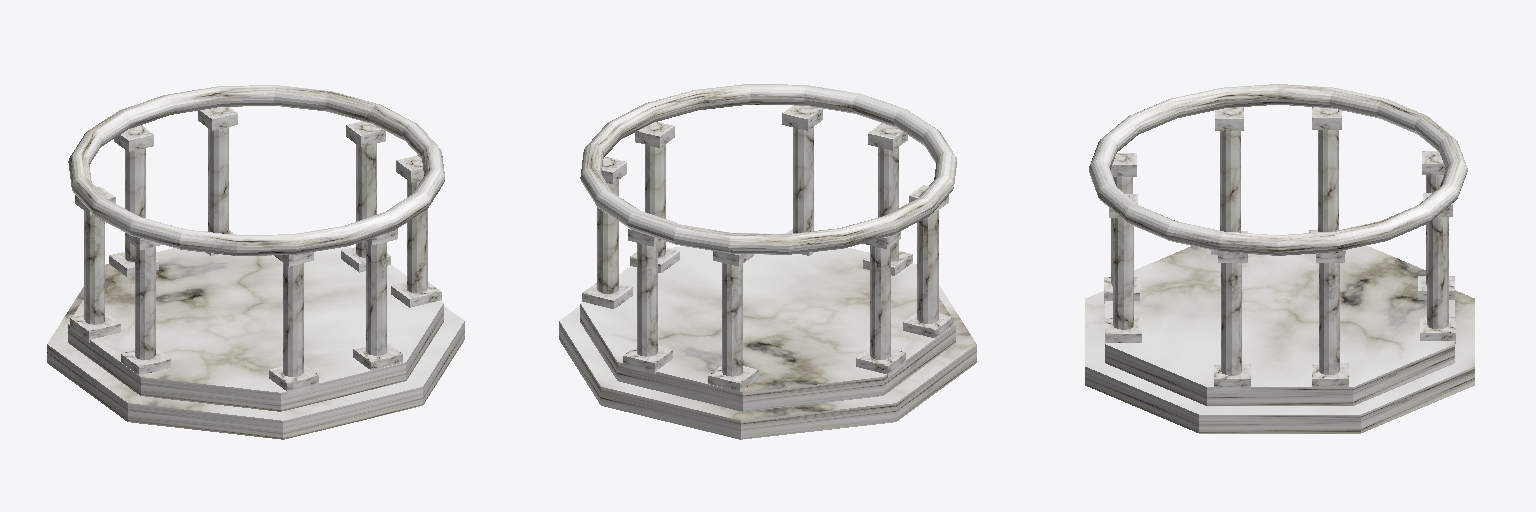
3 views of the same model, side by side, from view 1: azimuth 30°, elevation 25°; view 2: azimuth 150°, elevation 25°; view 3: azimuth 270°, elevation 25° (orthographic).
Parts seen in each view (by area): view 1: temple1 temple:pCylinder2, temple:pTorus1 temple1, temple1 temple:pCylinder1, temple1 temple:group3 temple:column1 temple:columnShaft, temple1 temple:column temple:group3 temple:columnShaft, temple1 temple:group2 temple:column1 temple:columnShaft, temple1 temple:column temple:group2 temple:columnShaft, temple1 temple:column temple:group1 temple:columnShaft, temple1 temple:column temple:group4 temple:columnShaft, temple1 temple:group4 temple:column1 temple:columnShaft, temple1 temple:group1 temple:column1 temple:columnShaft, temple1 temple:column temple:group3 temple:columnPedestral (+8 smaller); view 2: temple1 temple:pCylinder2, temple:pTorus1 temple1, temple1 temple:pCylinder1, temple1 temple:column temple:group2 temple:columnShaft, temple1 temple:group2 temple:column1 temple:columnShaft, temple1 temple:column temple:group1 temple:columnShaft, temple1 temple:group1 temple:column1 temple:columnShaft, temple1 temple:group3 temple:column1 temple:columnShaft, temple1 temple:group4 temple:column1 temple:columnShaft, temple1 temple:column temple:group4 temple:columnShaft, temple1 temple:column temple:group3 temple:columnShaft, temple1 temple:column temple:group1 temple:columnPedestral (+7 smaller); view 3: temple1 temple:pCylinder2, temple:pTorus1 temple1, temple1 temple:pCylinder1, temple1 temple:column temple:group1 temple:columnShaft, temple1 temple:column temple:group4 temple:columnShaft, temple1 temple:group4 temple:column1 temple:columnShaft, temple1 temple:group3 temple:column1 temple:columnShaft, temple1 temple:column temple:group2 temple:columnShaft, temple1 temple:group2 temple:column1 temple:columnShaft, temple1 temple:column temple:group4 temple:columnPedestral, temple1 temple:group3 temple:column1 temple:columnPedestral, temple1 temple:group2 temple:columnCapital temple:column1 (+4 smaller).
Part boxes in pixels (x1,y1,x2,y2): temple1 temple:pCylinder2: (68,234,443,411); temple:pTorus1 temple1: (68,85,444,255); temple1 temple:pCylinder1: (47,287,464,439); temple1 temple:group3 temple:column1 temple:columnShaft: (366,241,386,355); temple1 temple:column temple:group3 temple:columnShaft: (283,263,303,376); temple1 temple:group2 temple:column1 temple:columnShaft: (135,247,155,359); temple1 temple:column temple:group2 temple:columnShaft: (84,211,104,324); temple1 temple:column temple:group1 temple:columnShaft: (208,127,228,233); temple1 temple:column temple:group4 temple:columnShaft: (407,180,427,292); temple1 temple:group4 temple:column1 temple:columnShaft: (356,144,376,257); temple1 temple:group1 temple:column1 temple:columnShaft: (125,148,145,261); temple1 temple:column temple:group3 temple:columnPedestral: (269,365,318,394); temple1 temple:pCylinder2: (580,246,955,411); temple:pTorus1 temple1: (580,84,956,254); temple1 temple:pCylinder1: (559,285,976,439); temple1 temple:column temple:group2 temple:columnShaft: (870,246,890,359); temple1 temple:group2 temple:column1 temple:columnShaft: (917,210,938,323); temple1 temple:column temple:group1 temple:columnShaft: (637,243,657,356); temple1 temple:group1 temple:column1 temple:columnShaft: (722,263,742,376); temple1 temple:group3 temple:column1 temple:columnShaft: (793,127,813,232); temple1 temple:group4 temple:column1 temple:columnShaft: (597,180,618,293); temple1 temple:column temple:group4 temple:columnShaft: (645,144,665,257); temple1 temple:column temple:group3 temple:columnShaft: (878,147,898,260); temple1 temple:column temple:group1 temple:columnPedestral: (623,346,672,374); temple1 temple:pCylinder2: (1105,245,1454,405); temple:pTorus1 temple1: (1089,84,1467,255); temple1 temple:pCylinder1: (1085,290,1474,433); temple1 temple:column temple:group1 temple:columnShaft: (1427,217,1448,328); temple1 temple:column temple:group4 temple:columnShaft: (1221,263,1241,375); temple1 temple:group4 temple:column1 temple:columnShaft: (1319,263,1339,374); temple1 temple:group3 temple:column1 temple:columnShaft: (1113,218,1133,329); temple1 temple:column temple:group2 temple:columnShaft: (1318,130,1338,231); temple1 temple:group2 temple:column1 temple:columnShaft: (1220,131,1240,232); temple1 temple:column temple:group4 temple:columnPedestral: (1214,364,1250,390); temple1 temple:group3 temple:column1 temple:columnPedestral: (1105,318,1141,342); temple1 temple:group2 temple:columnCapital temple:column1: (1215,107,1243,130).
Bounding box in the file's own units: 11.12 × 6.03 × 11.12.
1 materials, 1 textured.